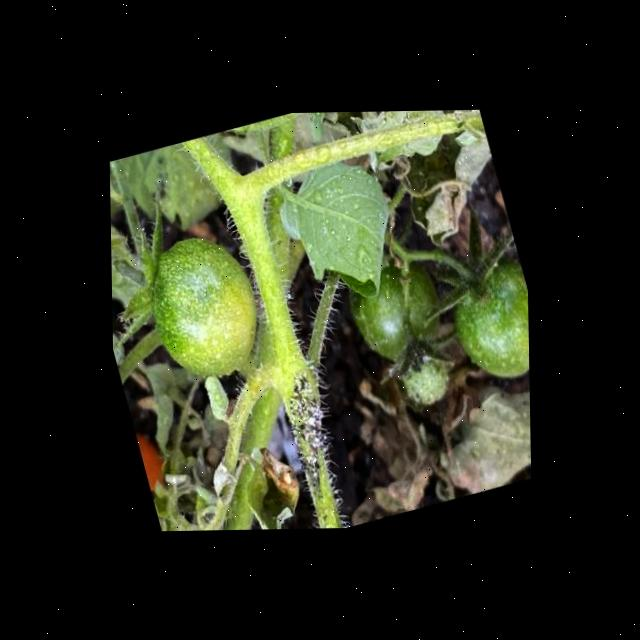tomato: (131, 224, 275, 392), (338, 248, 452, 376), (439, 256, 528, 391)
